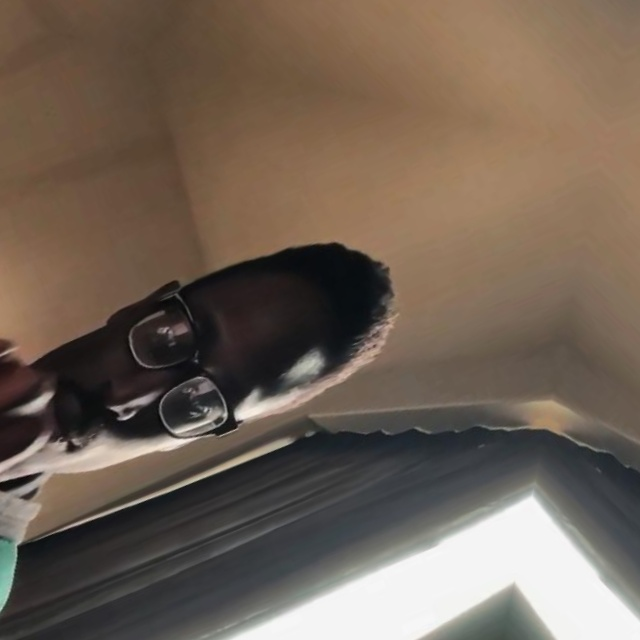Rock: (0, 225, 146, 593)
